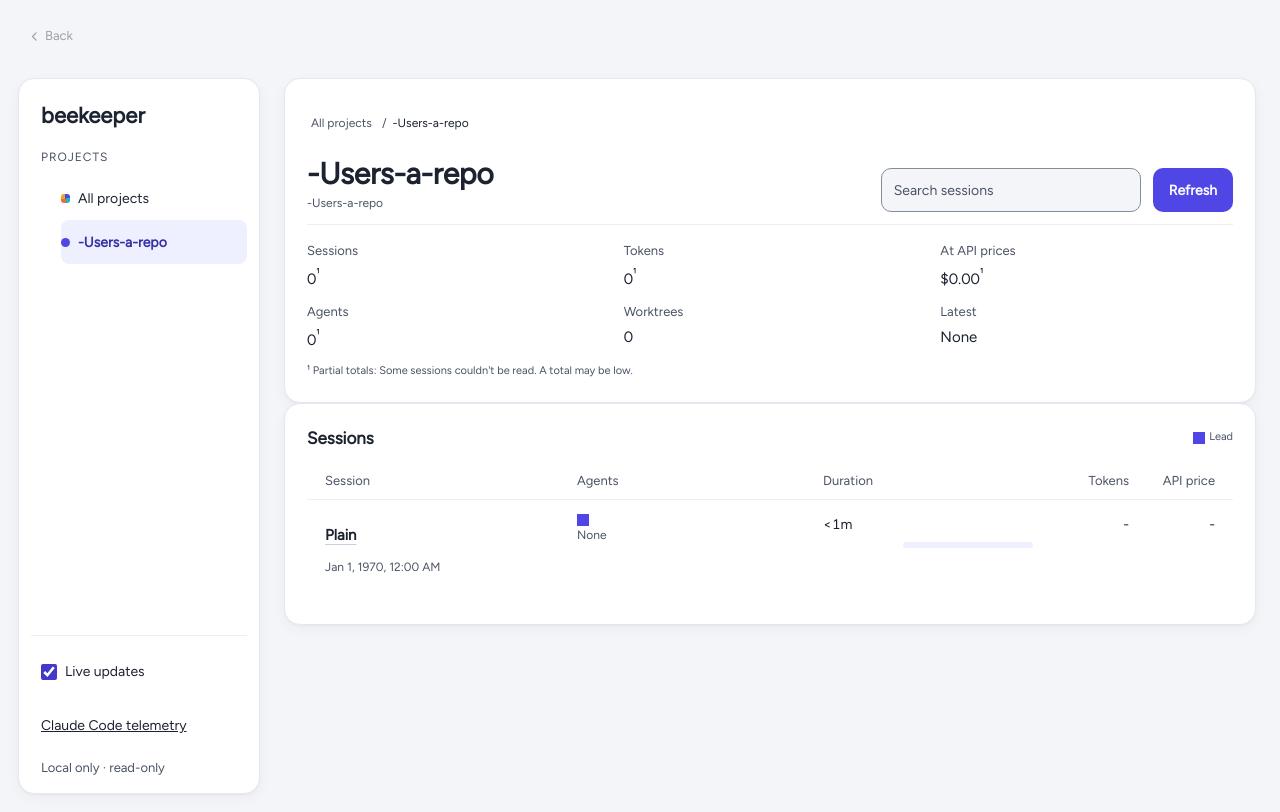
Test case: session search by subagent › shows a subagent name as plain text
Type "bold" into the search field labelled "Search sessions" at (1011, 190), box [881,168,1141,212]
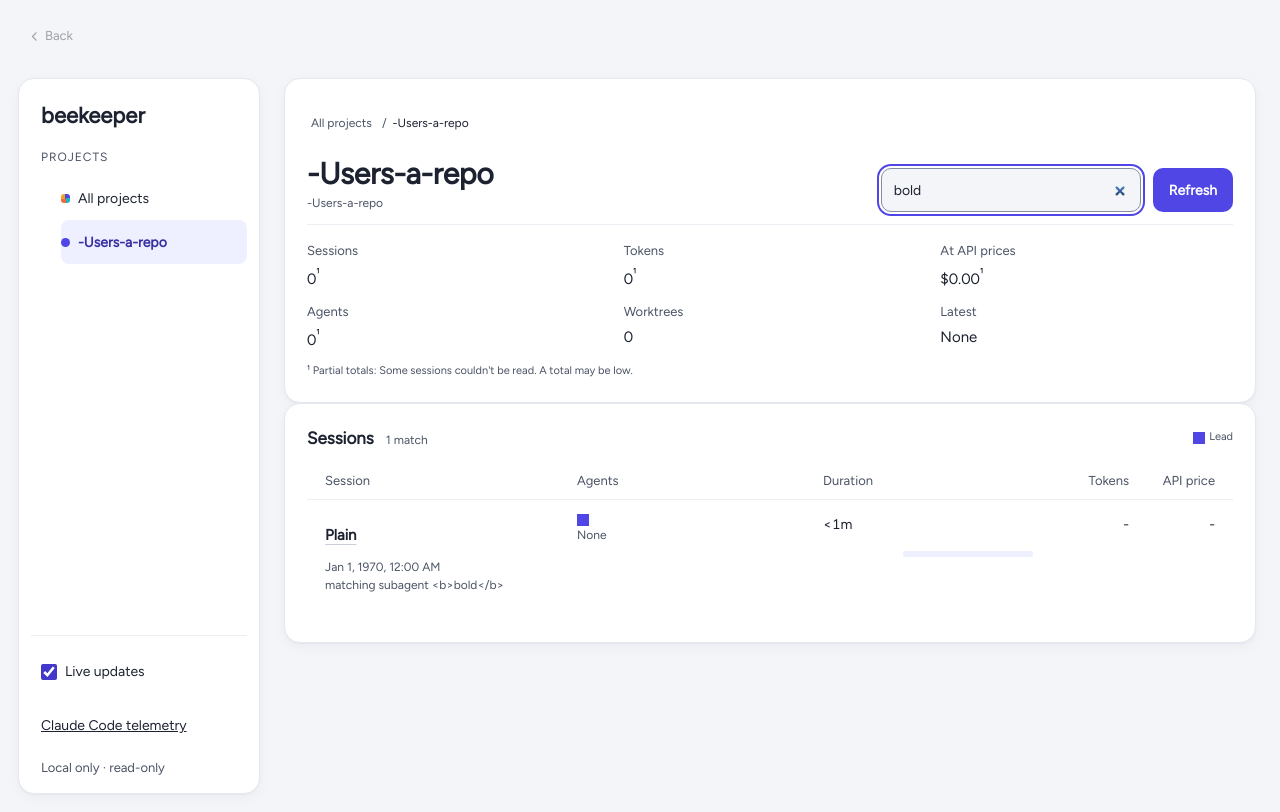
Result: the text "matching subagent <b>bold</b>" is shown at [325,578,504,592]
